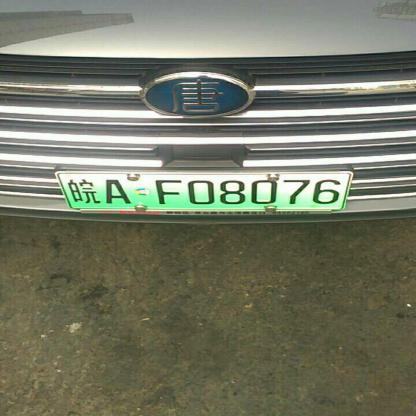lp: (55, 172, 69, 210)
